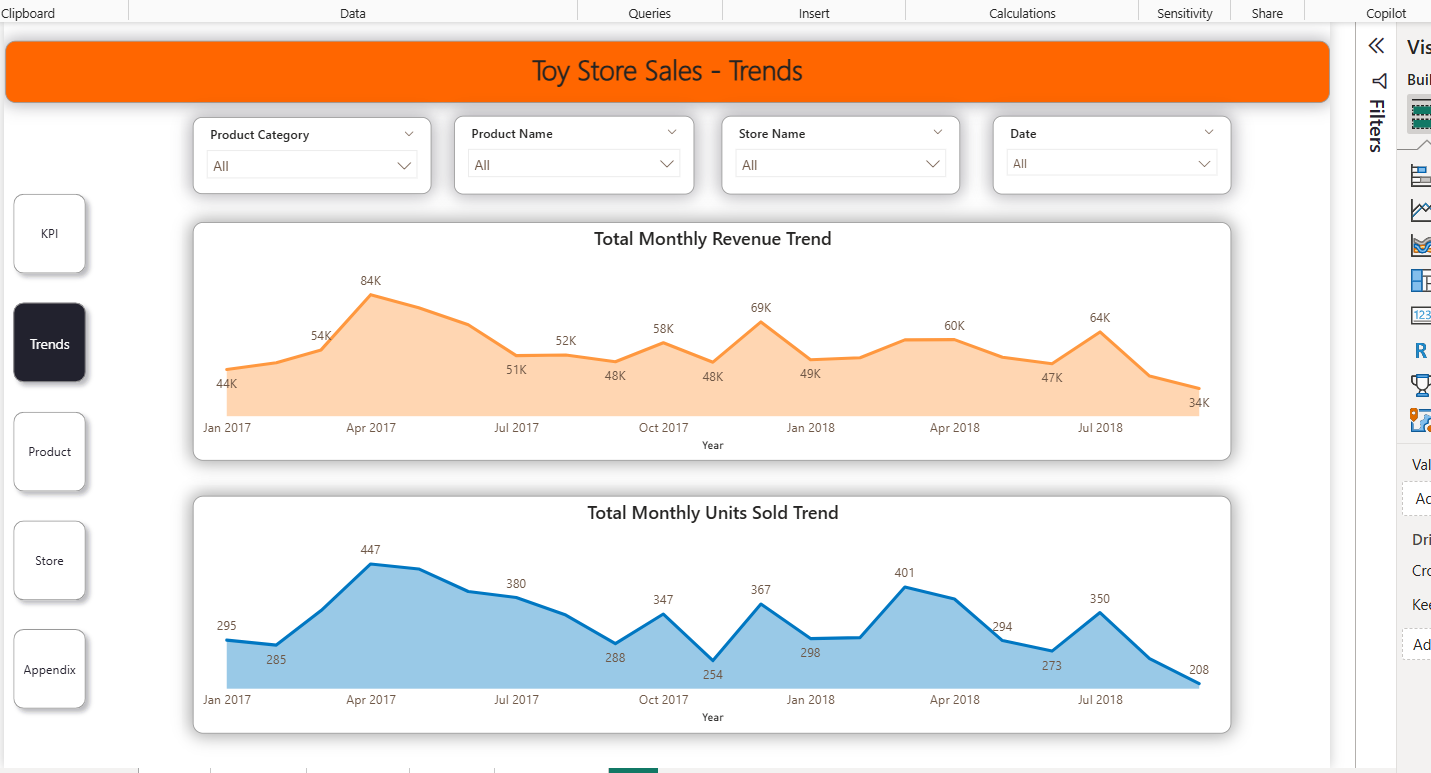

The page's visual inventory and layout, read from the dashboard file:
{"tool":"powerbi","page":{"name":"Trends","canvas":[1280,720],"ordinal":1},"visuals":[{"type":"textbox","box":[1.6,17.9,1278.5,60.2],"z":0},{"type":"slicer","fields":{"Values":["Dim_products.Product_Category"]},"box":[182.2,92,230.2,74.5],"z":1000,"group":"g1"},{"type":"lineChart","title":"Total Monthly Revenue Trend","fields":{"Y":["DaxMeasures.Total Revenue"],"Category":["Fact_sales.Date.Variation.Date Hierarchy.Year","Fact_sales.Date.Variation.Date Hierarchy.Quarter","Fact_sales.Date.Variation.Date Hierarchy.Month","Fact_sales.Date.Variation.Date Hierarchy.Day"]},"box":[182.2,193,1002.6,230.4],"z":1000},{"type":"slicer","fields":{"Values":["Dim_products.Product_Name"]},"box":[434.1,90.5,231.9,76],"z":2000,"group":"g1"},{"type":"lineChart","title":"Total Monthly Units Sold Trend","fields":{"Category":["Fact_sales.Date.Variation.Date Hierarchy.Year","Fact_sales.Date.Variation.Date Hierarchy.Quarter","Fact_sales.Date.Variation.Date Hierarchy.Month","Fact_sales.Date.Variation.Date Hierarchy.Day"],"Y":["Sum(Fact_sales.Units)"]},"box":[182.2,457.2,1002.6,229.2],"z":2000},{"type":"slicer","fields":{"Values":["Dim_store.Store_Name"]},"box":[692.7,90.5,230.2,76],"z":3000,"group":"g1"},{"type":"group","id":"g1","title":"Group 2","box":[182.2,90.5,1002.6,76],"z":3000},{"type":"slicer","fields":{"Values":["Fact_sales.Date"]},"box":[954.5,90.5,230.2,76],"z":4000,"group":"g1"},{"type":"pageNavigator","box":[0,156.8,88.1,517.6],"z":4000}]}

Visuals, with their boxes on the page's 1280x720 design canvas (x1, y1, x2, y2). These are canvas units, not pixel positions in the 1431x773 screenshot, which may show the page scaled, cropped or inside an application window:
textbox: crop(2, 18, 1280, 78)
slicer - Dim_products.Product_Category: crop(182, 92, 412, 166)
"Total Monthly Revenue Trend" lineChart: crop(182, 193, 1185, 423)
slicer - Dim_products.Product_Name: crop(434, 90, 666, 166)
"Total Monthly Units Sold Trend" lineChart: crop(182, 457, 1185, 686)
slicer - Dim_store.Store_Name: crop(693, 90, 923, 166)
"Group 2" group: crop(182, 90, 1185, 166)
slicer - Fact_sales.Date: crop(954, 90, 1185, 166)
pageNavigator: crop(0, 157, 88, 674)
